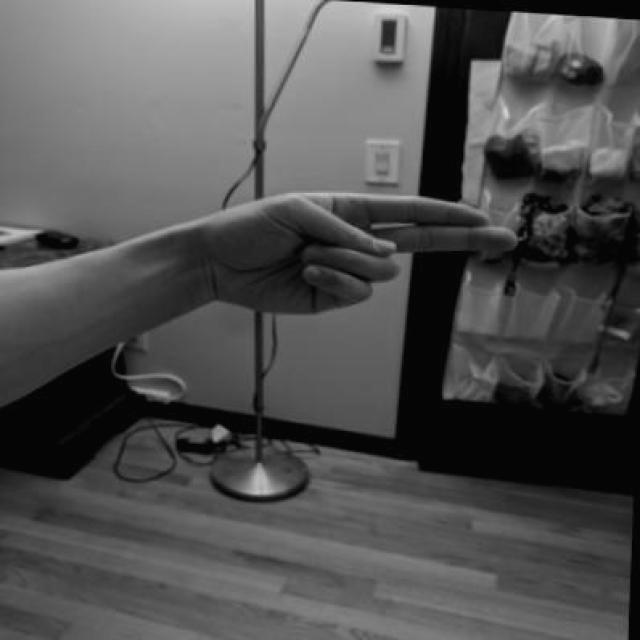H: (179, 172, 535, 334)
